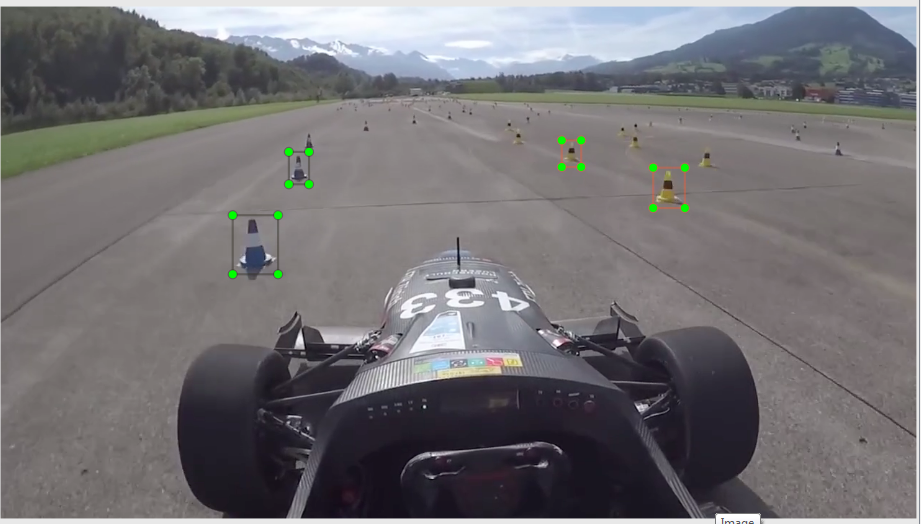rcone: (696, 144, 718, 170)
